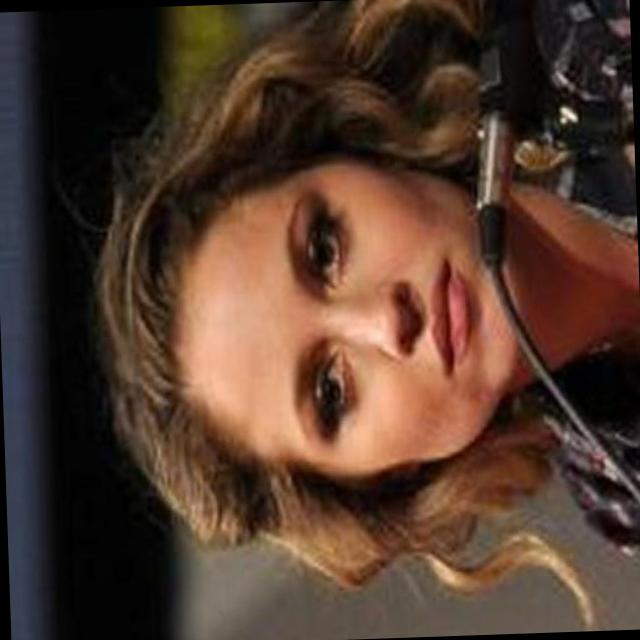bareface: (179, 165, 510, 504)
